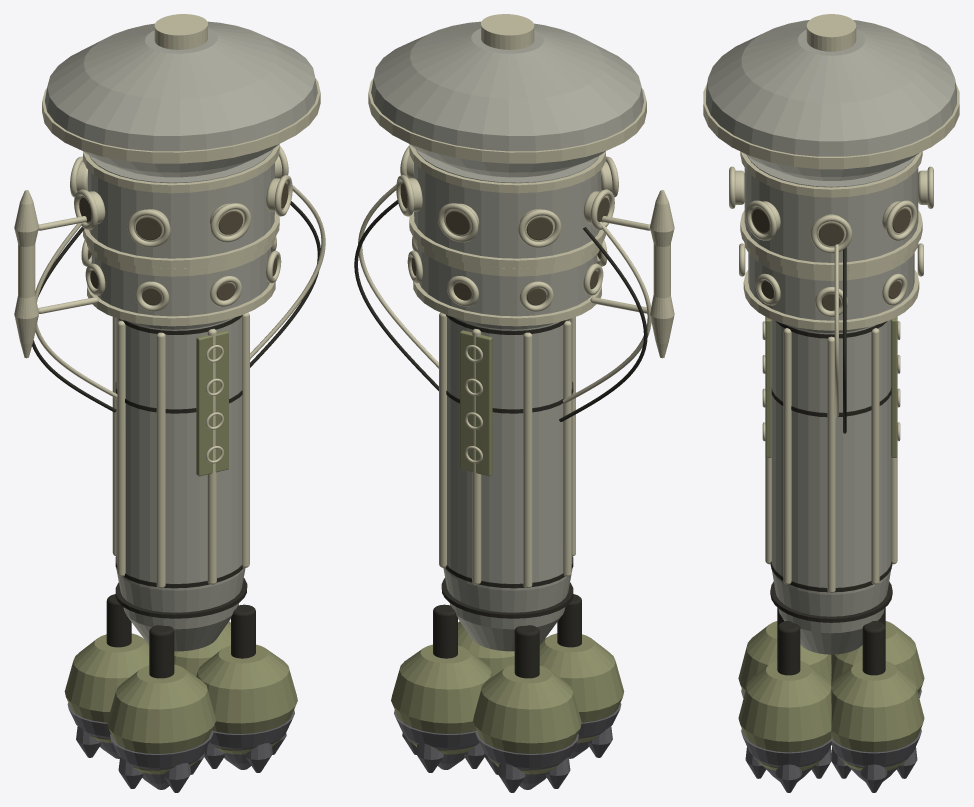
File: mk2-deep-bore-mine.glb
The picture shows the model from 3 angles, left to right: view 1: azimuth 30°, elevation 25°; view 2: azimuth 150°, elevation 25°; view 3: azimuth 270°, elevation 25°; orthographic projection.
Parts seen in each view (by area): view 1: Broad mushroom drill head, Deep bore long drive barrel, Upper connector collar, Independent multi-head drill 2, Independent multi-head drill 3, Lower connector collar, Independent multi-head drill 1, Deep bore vertical service strip, Mushroom head equatorial band, Radio seismic torpedo probe, Long drill drive barrel rib.005, Long drill drive barrel rib.004 (+24 smaller); view 2: Broad mushroom drill head, Deep bore long drive barrel, Upper connector collar, Independent multi-head drill 1, Independent multi-head drill 0, Lower connector collar, Independent multi-head drill 2, Deep bore vertical service strip.001, Mushroom head equatorial band, Radio seismic torpedo probe, Long drill drive barrel rib.003, Upper collar pale band (+23 smaller); view 3: Deep bore long drive barrel, Broad mushroom drill head, Upper connector collar, Independent multi-head drill 0, Independent multi-head drill 3, Lower connector collar, Mushroom head equatorial band, Long drill drive barrel rib.001, Long drill drive barrel rib.007, Long drill drive barrel rib, Upper collar pale band, Independent multi-head drill 1 (+27 smaller).
Part boxes in pixels (x1=…): Broad mushroom drill head: x1=45, y1=21, x2=317, y2=177; Deep bore long drive barrel: x1=116, y1=317, x2=245, y2=651; Upper connector collar: x1=88, y1=149, x2=274, y2=258; Independent multi-head drill 2: x1=107, y1=664, x2=215, y2=774; Independent multi-head drill 3: x1=196, y1=644, x2=297, y2=754; Lower connector collar: x1=91, y1=248, x2=270, y2=316; Independent multi-head drill 1: x1=64, y1=633, x2=149, y2=743; Deep bore vertical service strip: x1=196, y1=330, x2=228, y2=476; Mushroom head equatorial band: x1=42, y1=78, x2=320, y2=163; Radio seismic torpedo probe: x1=14, y1=190, x2=38, y2=358; Long drill drive barrel rib.005: x1=156, y1=332, x2=165, y2=588; Long drill drive barrel rib.004: x1=117, y1=320, x2=125, y2=576; Broad mushroom drill head: x1=371, y1=21, x2=643, y2=177; Deep bore long drive barrel: x1=443, y1=317, x2=572, y2=651; Upper connector collar: x1=414, y1=149, x2=600, y2=258; Independent multi-head drill 1: x1=473, y1=664, x2=581, y2=774; Independent multi-head drill 0: x1=391, y1=644, x2=492, y2=754; Lower connector collar: x1=418, y1=248, x2=597, y2=316; Independent multi-head drill 2: x1=539, y1=633, x2=624, y2=743; Deep bore vertical service strip.001: x1=460, y1=330, x2=492, y2=476; Mushroom head equatorial band: x1=368, y1=78, x2=646, y2=163; Radio seismic torpedo probe: x1=650, y1=190, x2=674, y2=358; Long drill drive barrel rib.003: x1=523, y1=332, x2=532, y2=588; Upper collar pale band: x1=409, y1=212, x2=605, y2=268; Deep bore long drive barrel: x1=771, y1=320, x2=891, y2=654; Broad mushroom drill head: x1=706, y1=20, x2=956, y2=180; Upper connector collar: x1=744, y1=156, x2=918, y2=262; Independent multi-head drill 0: x1=831, y1=661, x2=924, y2=770; Independent multi-head drill 3: x1=738, y1=661, x2=831, y2=770; Lower connector collar: x1=748, y1=253, x2=914, y2=320; Mushroom head equatorial band: x1=703, y1=83, x2=959, y2=169; Long drill drive barrel rib.001: x1=871, y1=328, x2=879, y2=584; Long drill drive barrel rib.007: x1=783, y1=328, x2=791, y2=584; Long drill drive barrel rib: x1=827, y1=336, x2=835, y2=593; Upper collar pale band: x1=740, y1=210, x2=922, y2=272; Independent multi-head drill 1: x1=831, y1=621, x2=924, y2=694.
Bounding box in the file's own units: 2.04 × 4.61 × 1.45.
